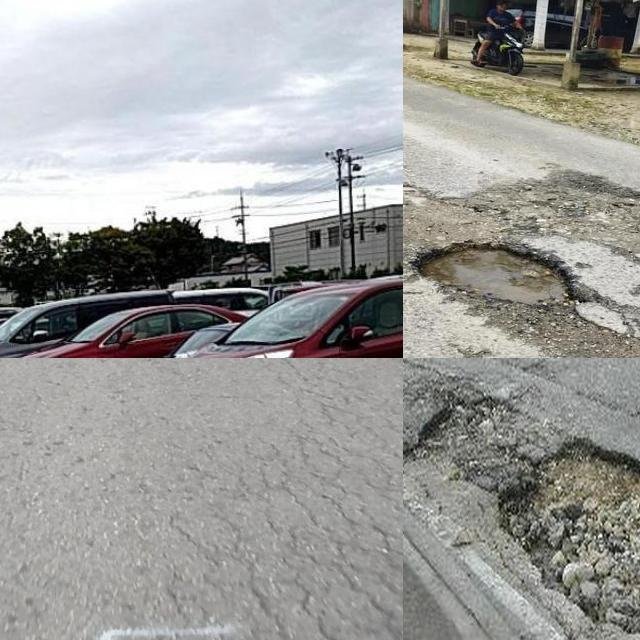Lubang: (502, 443, 640, 624), (419, 235, 579, 301), (410, 394, 518, 455)
Retak Buaya: (145, 441, 403, 640)
